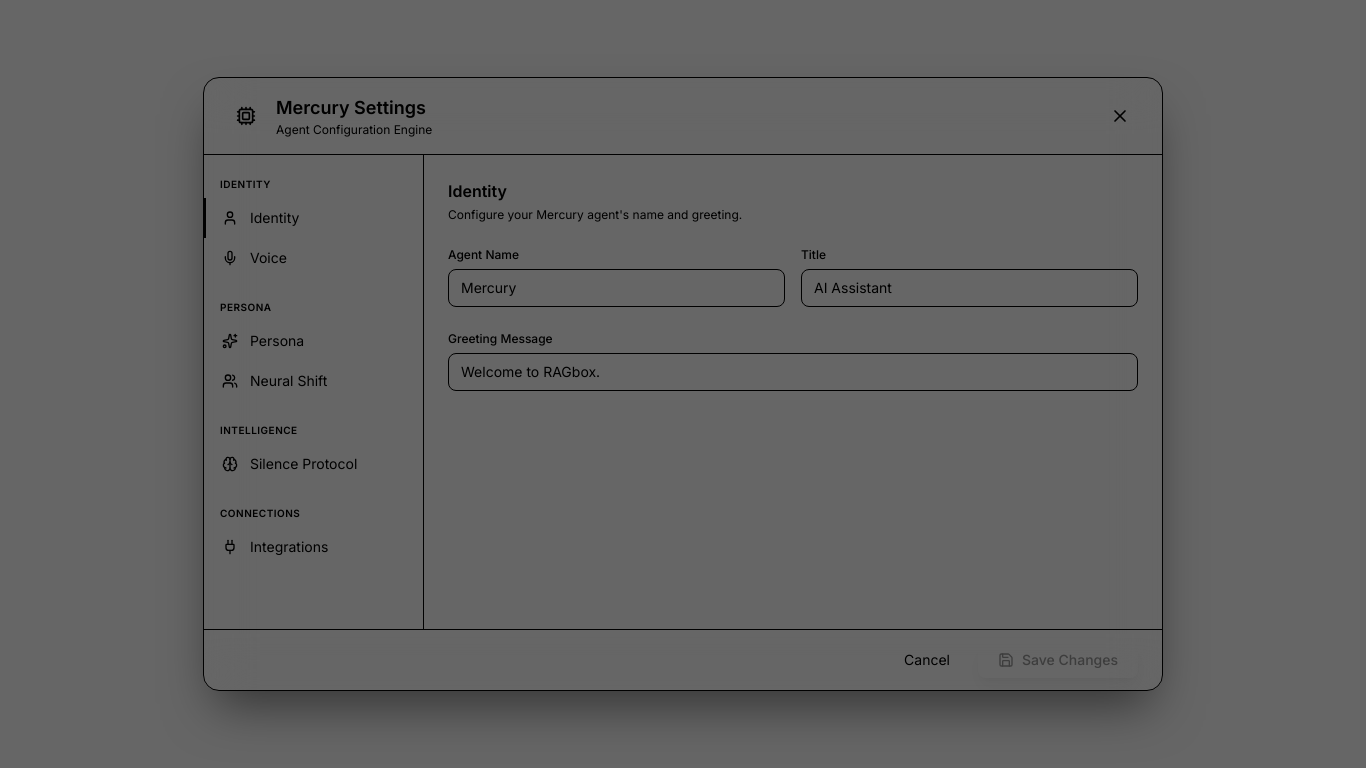
it: MercurySettingsModal › Voice section is a separate tab with named voice options
Check: the text "Agent Name" is shown, box [448,247,519,262]
// Switch to Voice tab
Click the button "Voice".
click(314, 258)  # box [204,238,423,278]
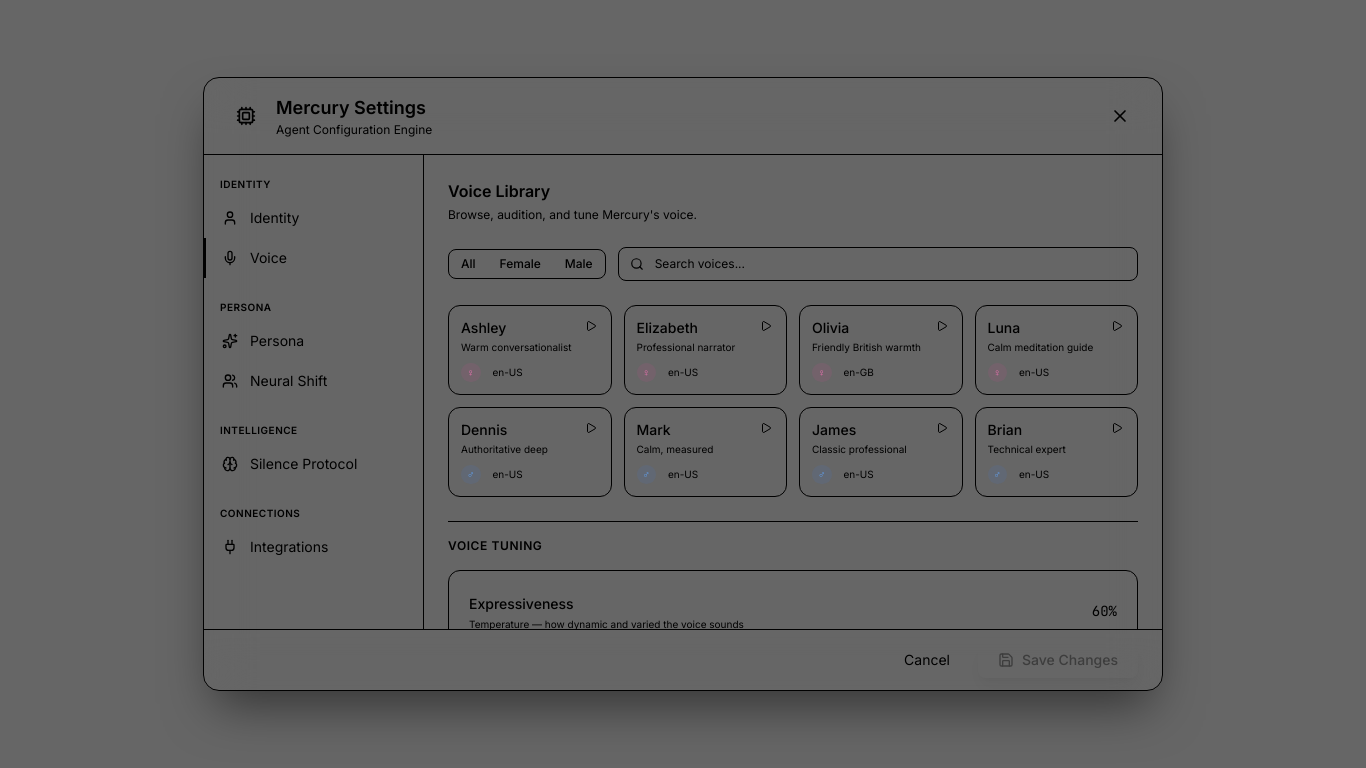
Check: the text "Browse, audition, and tune Mercury's voice." is shown, box [448,207,697,222]
